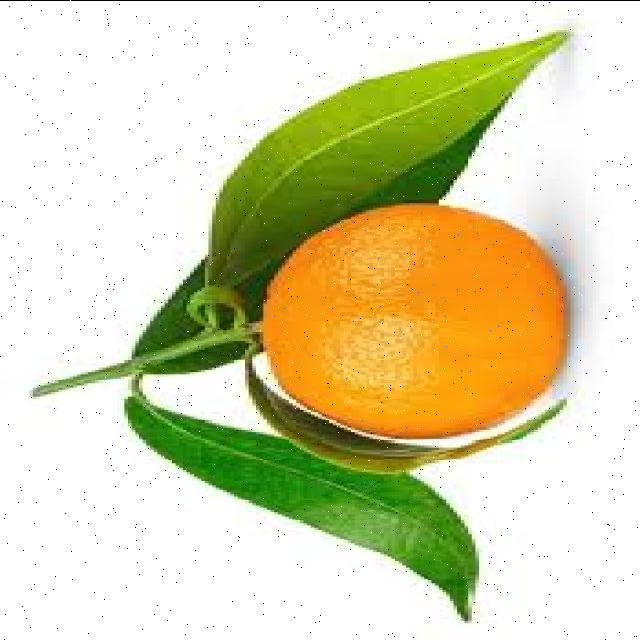Orange: (259, 202, 567, 441)
